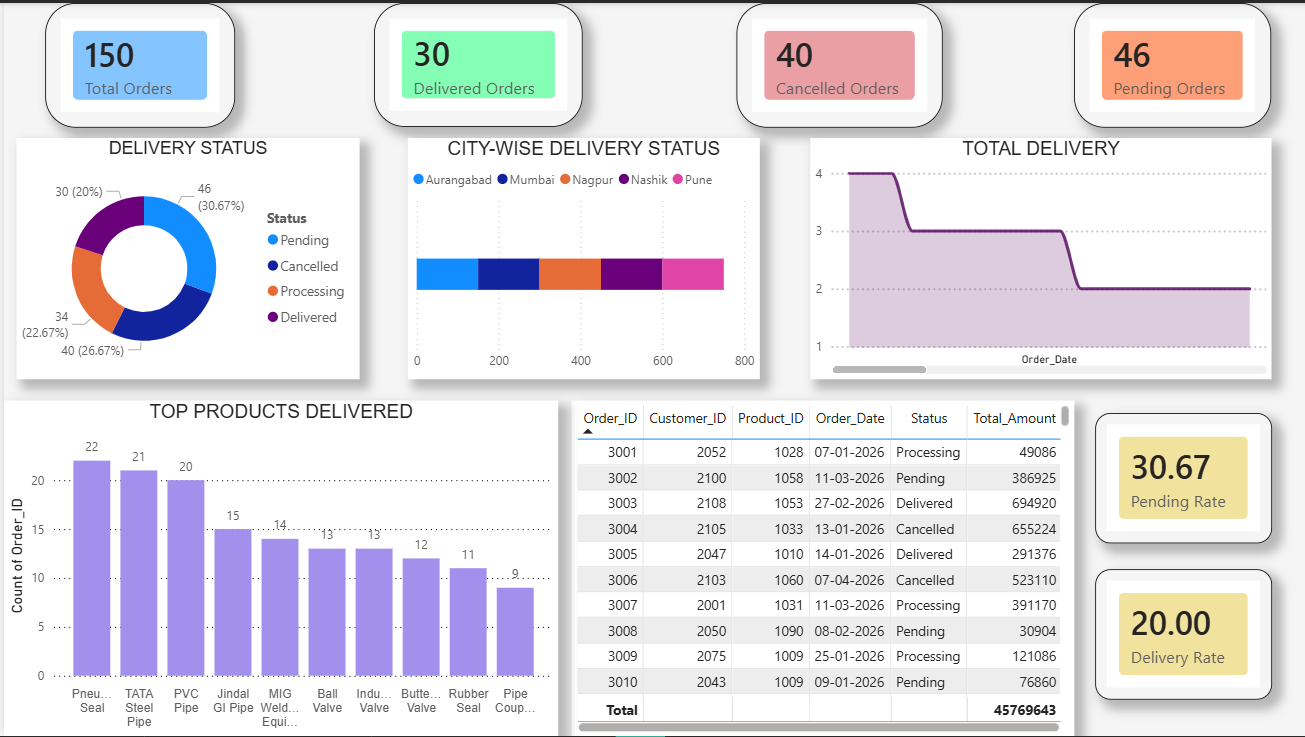

Layout of this report page (visuals, bound fields, positions):
{"tool":"powerbi","page":{"name":"KP Sales Delivery Monitor","canvas":[1280,720],"ordinal":1},"visuals":[{"type":"cardVisual","fields":{"Data":["Orders.Cancelled Orders"]},"box":[719,0,202.5,122.8],"z":0},{"type":"cardVisual","fields":{"Data":["Orders.Total Orders"]},"box":[40.5,0,186.1,122.8],"z":1000},{"type":"cardVisual","fields":{"Data":["Orders.Delivered Orders"]},"box":[363.3,0,205.1,121.5],"z":2000},{"type":"cardVisual","fields":{"Data":["Orders.Pending Orders"]},"box":[1050.6,0,193.7,122.8],"z":3000},{"type":"donutChart","title":"DELIVERY STATUS","fields":{"Category":["Orders.Status"],"Y":["CountNonNull(Orders.Order_ID)"]},"box":[12.7,132.9,336.7,236.7],"z":4000},{"type":"lineChart","title":"TOTAL DELIVERY","fields":{"Category":["Orders.Order_Date"],"Y":["CountNonNull(Orders.Order_ID)"]},"box":[791.1,132.9,453.2,236.7],"z":5000},{"type":"barChart","title":"CITY-WISE DELIVERY STATUS","fields":{"Y":["CountNonNull(Orders.Status)"],"Series":["Suppliers.City"]},"box":[396.2,132.9,345.6,236.7],"z":6000},{"type":"tableEx","fields":{"Values":["Orders.Order_ID","Orders.Customer_ID","Orders.Product_ID","Orders.Order_Date","Orders.Status","Sum(Orders.Total_Amount)"]},"box":[557,389.9,493.7,330.4],"z":7000},{"type":"columnChart","title":"TOP PRODUCTS DELIVERED","fields":{"Y":["CountNonNull(Orders.Order_ID)"],"Category":["Products.Product_Name"]},"box":[0,389.9,544.3,330.4],"z":8000},{"type":"cardVisual","fields":{"Data":["Orders.Delivery Rate"]},"box":[1070.9,555.7,173.4,127.8],"z":9000},{"type":"cardVisual","fields":{"Data":["Orders.Pending Rate"]},"box":[1070.9,402.5,173.4,127.8],"z":10000}]}

Visuals, with their boxes in screenshot pixels (x1, y1, x2, y2), scaled from the page's 1280x720 canvas onto the 1305x737 screenshot:
cardVisual - Orders.Cancelled Orders: bbox=[733, 0, 939, 126]
cardVisual - Orders.Total Orders: bbox=[41, 0, 231, 126]
cardVisual - Orders.Delivered Orders: bbox=[370, 0, 580, 124]
cardVisual - Orders.Pending Orders: bbox=[1071, 0, 1269, 126]
"DELIVERY STATUS" donutChart: bbox=[13, 136, 356, 378]
"TOTAL DELIVERY" lineChart: bbox=[807, 136, 1269, 378]
"CITY-WISE DELIVERY STATUS" barChart: bbox=[404, 136, 756, 378]
tableEx - Orders.Order_ID x Orders.Customer_ID: bbox=[568, 399, 1071, 736]
"TOP PRODUCTS DELIVERED" columnChart: bbox=[0, 399, 555, 736]
cardVisual - Orders.Delivery Rate: bbox=[1092, 569, 1269, 700]
cardVisual - Orders.Pending Rate: bbox=[1092, 412, 1269, 543]
